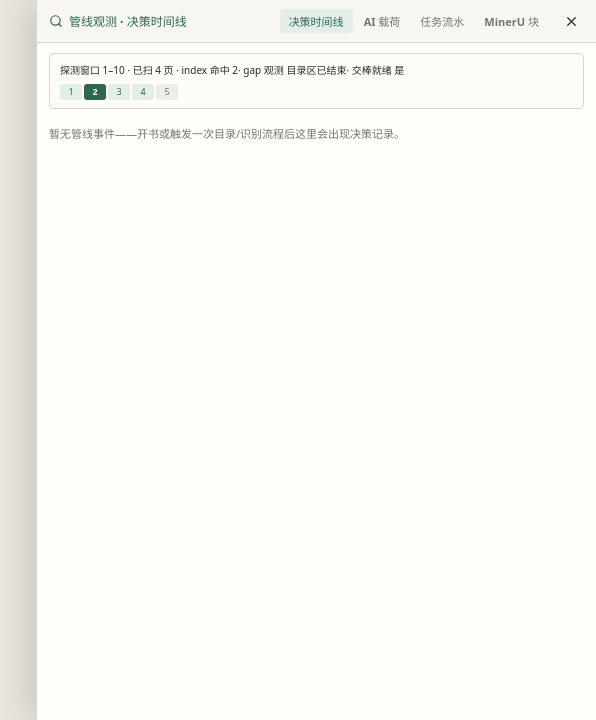
PipelineObserverDrawer › renders the jobs tab table with expandable failure details
Click the tab "任务流水" at (442, 21), box [411,9,473,33]
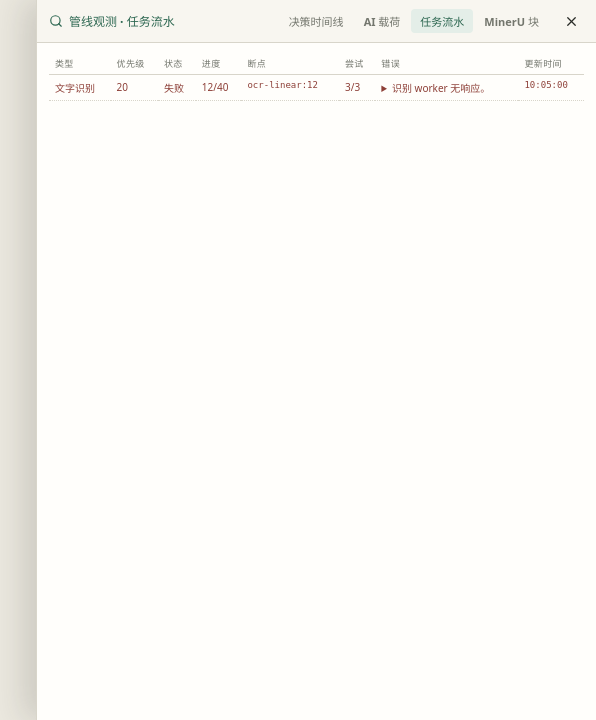
Now the row "文字识别 20 失败 12/40 ocr-linear:12 3/3 识别 worker 无响应。 10:05:00" is shown, box [49,74,584,100]
Now the heading "识别 worker 无响应。" is shown, box [392,81,490,95]
